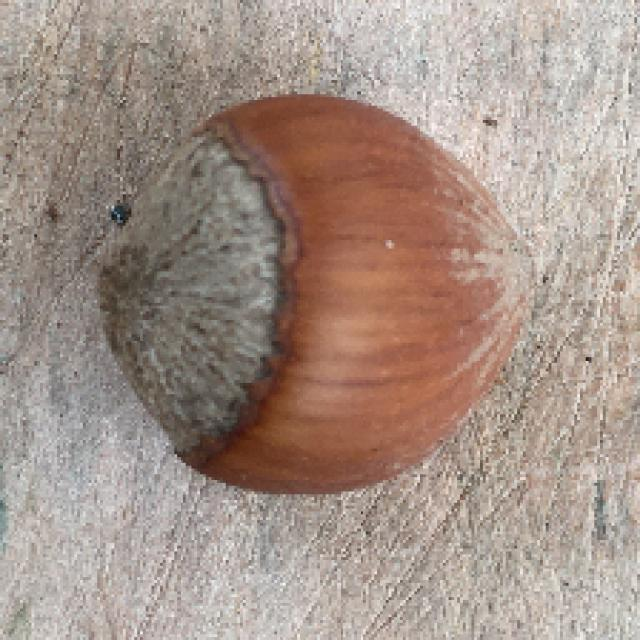qualityHazelnut: (109, 89, 540, 498)
